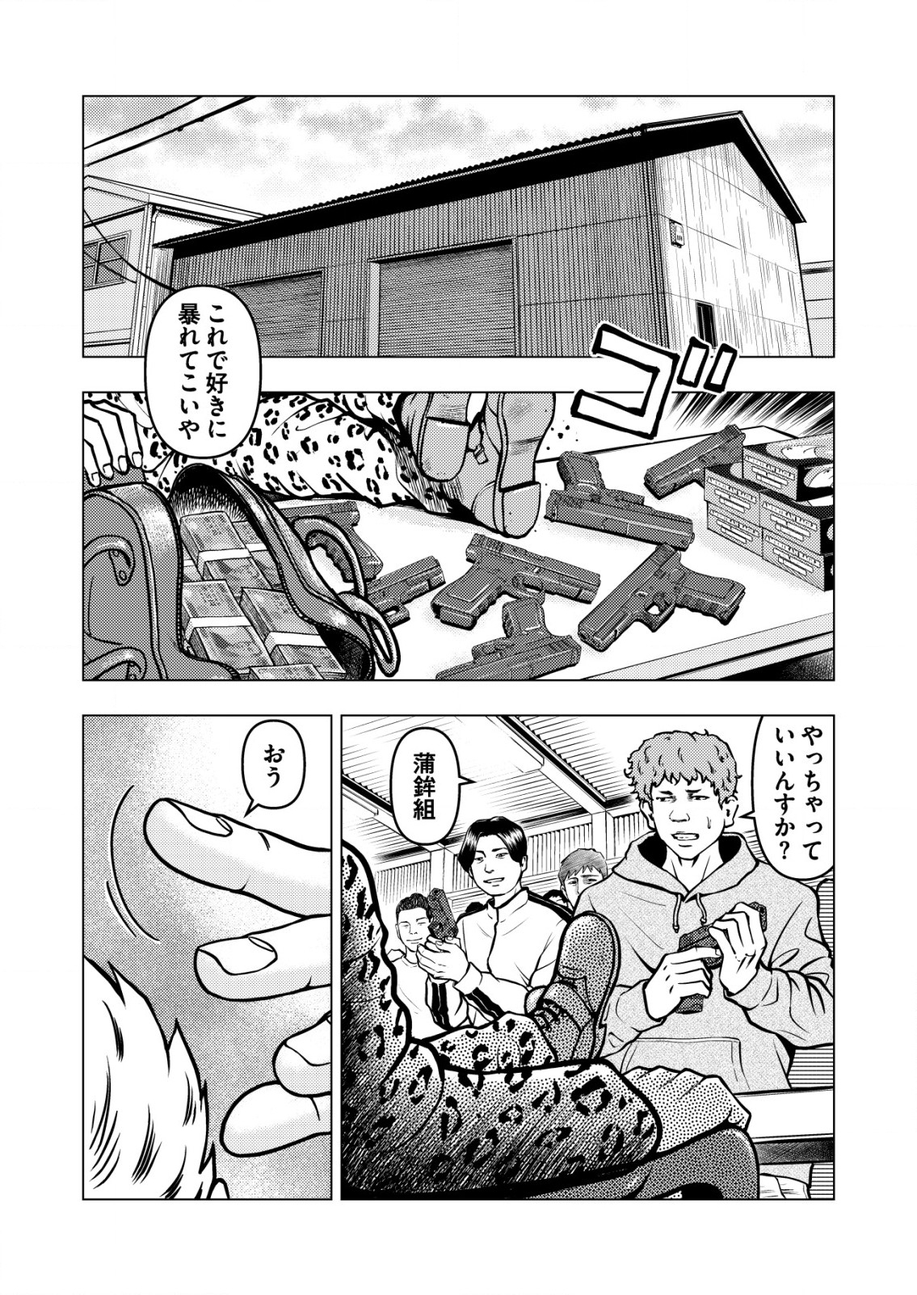bubbles: (139, 280, 265, 464), (737, 713, 835, 881), (385, 720, 476, 854), (238, 713, 309, 823)
